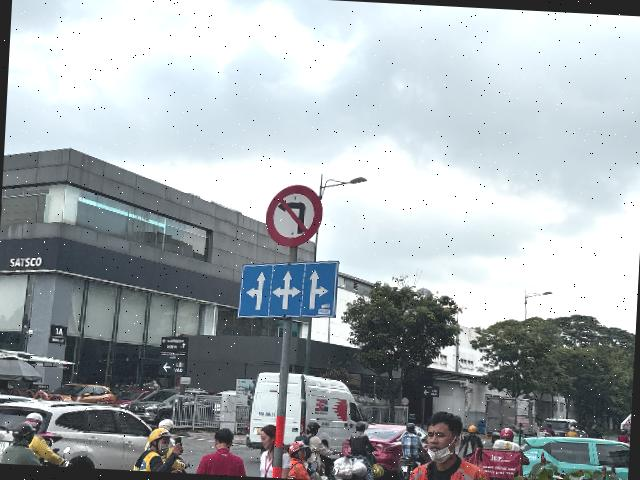cam-re-trai: (263, 181, 325, 249)
